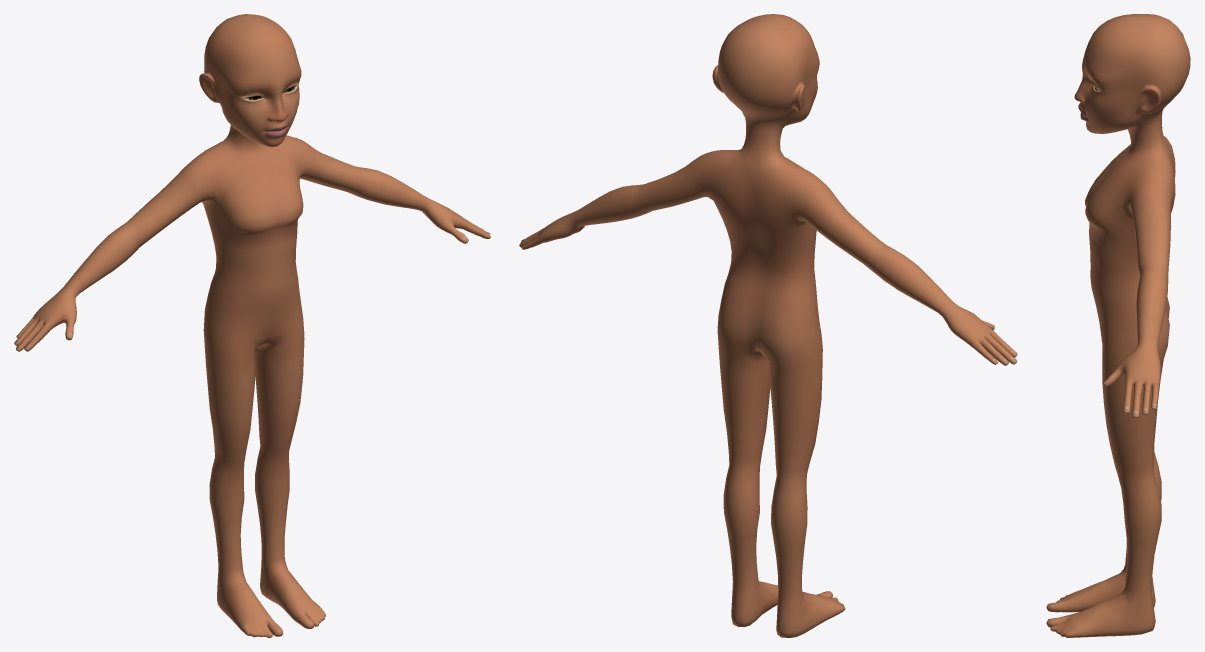
Rendered from frame_0091.glb.
3 renders of one model, left to right at view 1: azimuth 30°, elevation 25°; view 2: azimuth 150°, elevation 25°; view 3: azimuth 270°, elevation 25°, orthographic. The views are drawn at different scales.
Visible parts, largest first — view 1: frame_0091_head_geo; view 2: frame_0091_head_geo; view 3: frame_0091_head_geo.
Boxes of the visible parts, x1,y1,x2,y2 form: frame_0091_head_geo: [14, 14, 490, 637]; frame_0091_head_geo: [519, 14, 1017, 637]; frame_0091_head_geo: [1046, 14, 1190, 637].
Size of the model in its own units: 1.28 by 1.5 by 0.3253.
Materials: 3 (3 with a texture image).
